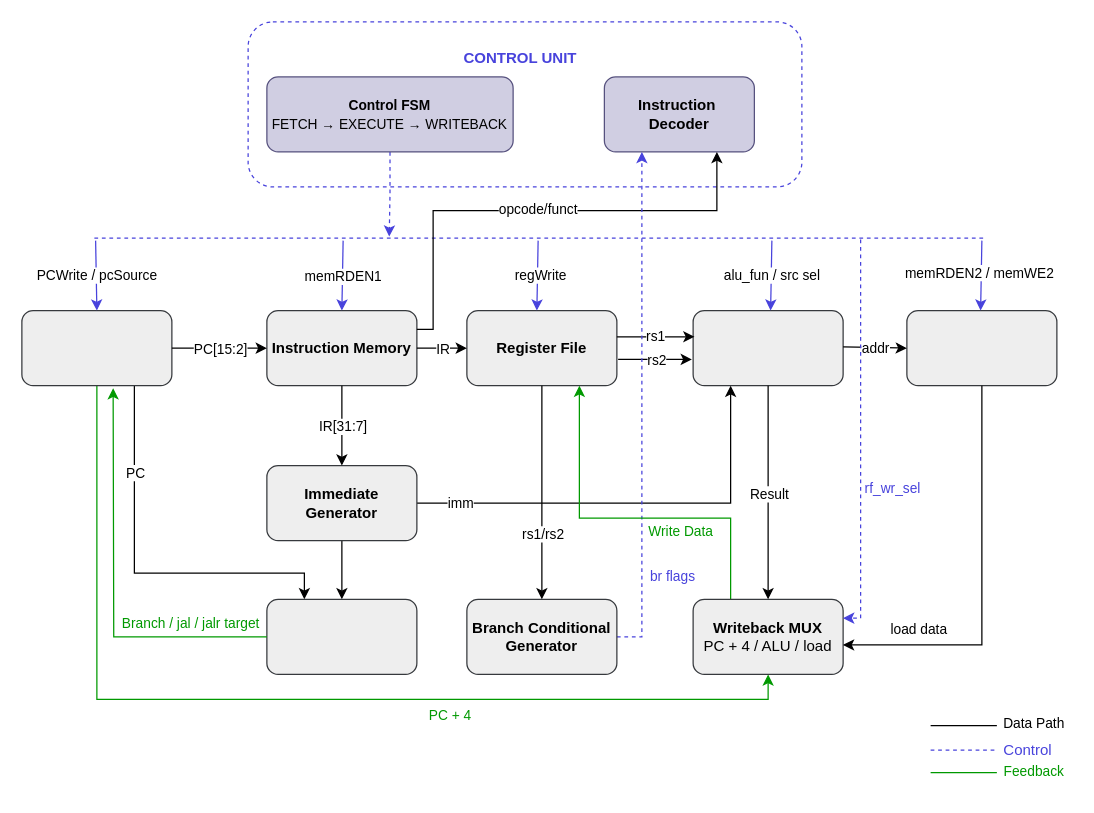
Some shapes in this 1094 by 813 pixel diagram are drawn without their labels. The shapes that lost their labels are listed below. From the top down, each one's centre as x and y in pixels, then its label:
[96,347]: Program Counter
[767,347]: Arithmetic Logic Unit
[981,347]: Data Memory
[341,636]: Branch Address Generator
